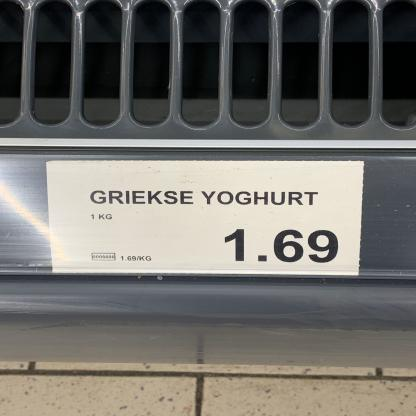prtg: (48, 161, 366, 276)
